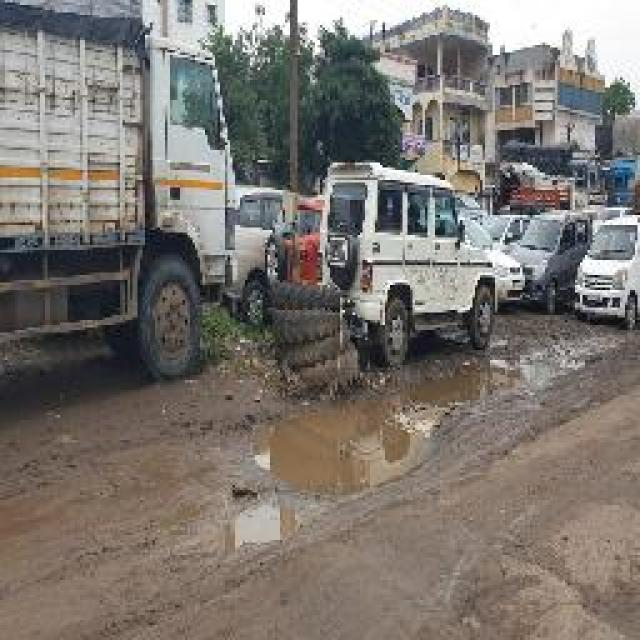stagnation: (258, 377, 530, 505)
